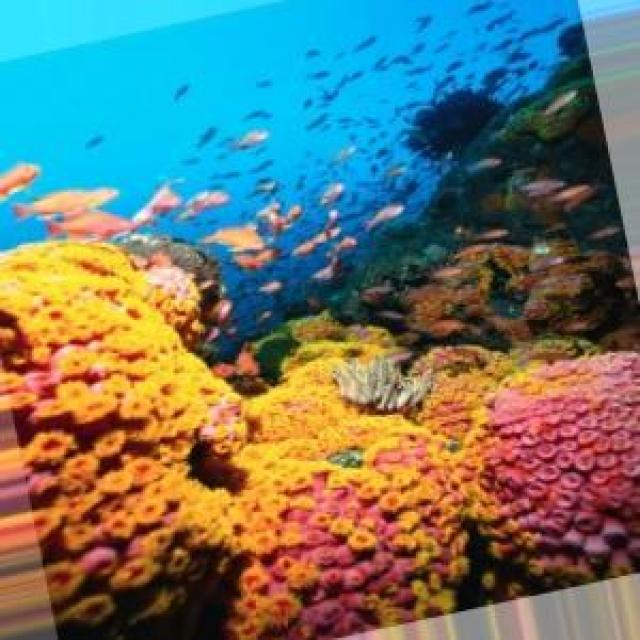healthy coral: (0, 242, 246, 638), (228, 440, 478, 638), (458, 353, 640, 607), (232, 316, 425, 514), (412, 354, 512, 469)
